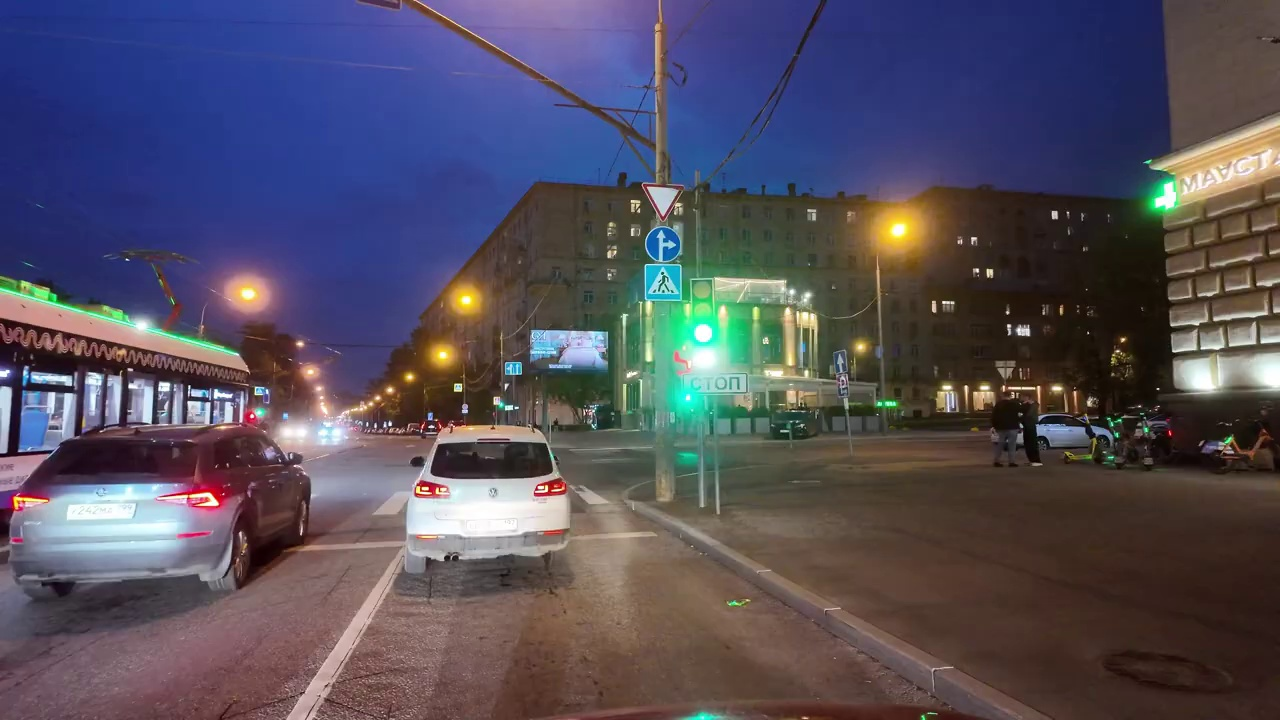acesa: (879, 214, 916, 247), (229, 278, 265, 309), (450, 284, 483, 316), (428, 342, 458, 369)
